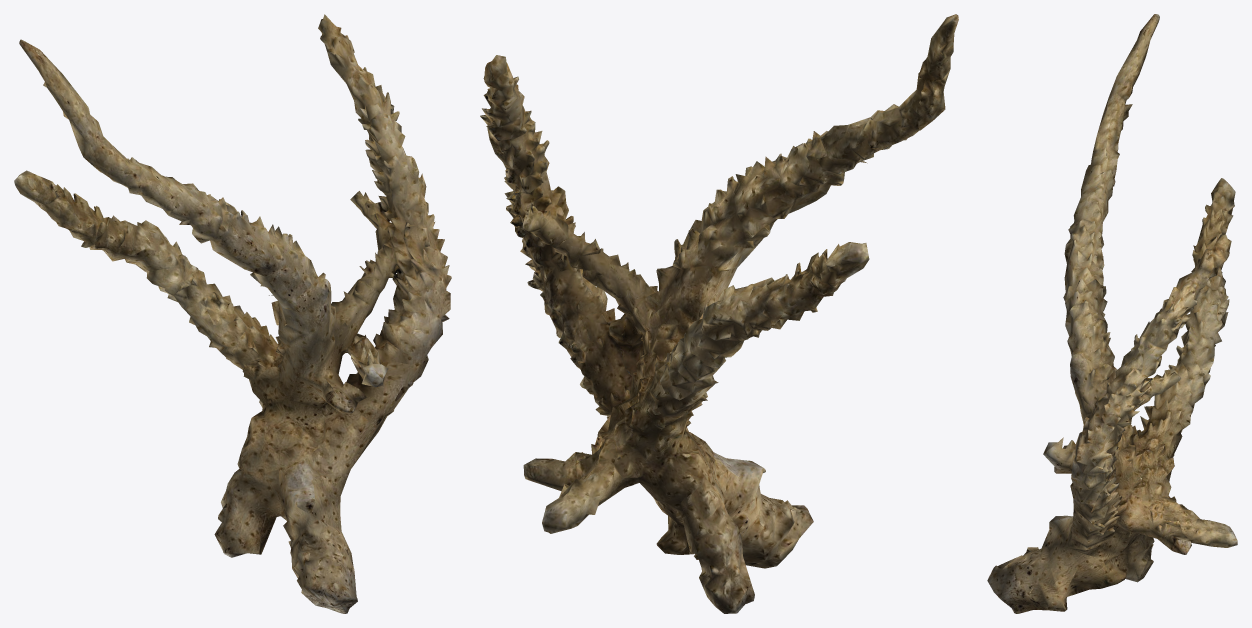
Rendered from coral-acropora.glb.
3 renders of one model, left to right at view 1: azimuth 30°, elevation 25°; view 2: azimuth 150°, elevation 25°; view 3: azimuth 270°, elevation 25°, orthographic. The views are drawn at different scales.
Size of the model in its own units: 0.0959 by 0.1328 by 0.0605.
Materials: 1 (1 with a texture image).
